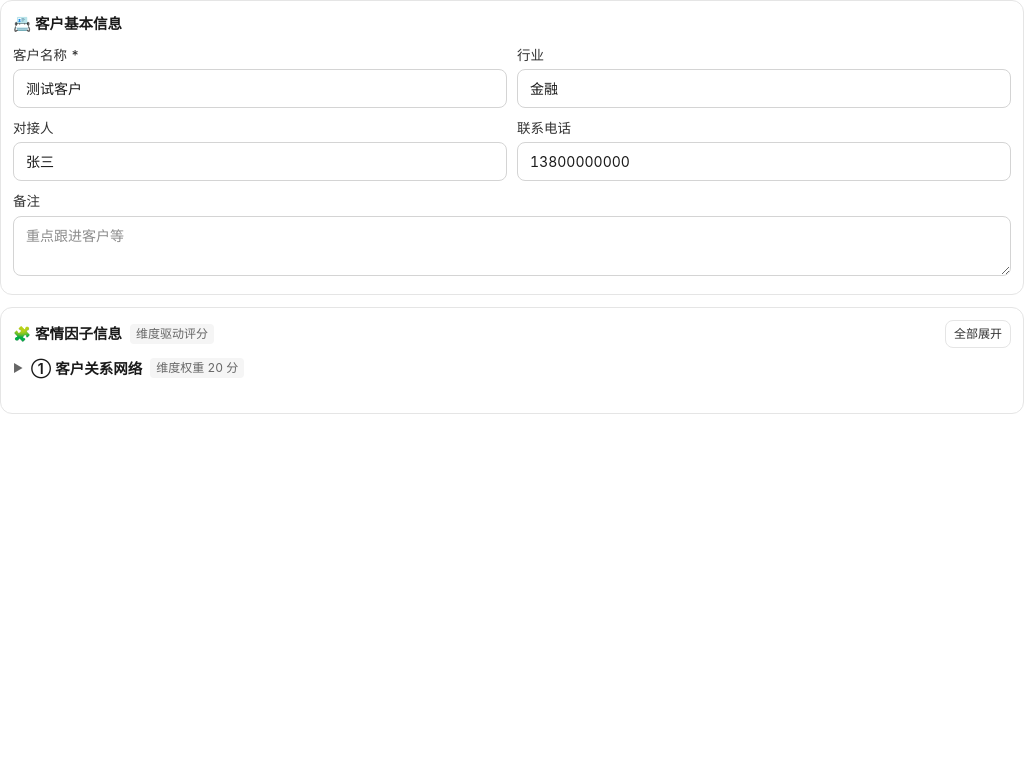
it: CustomerForm 二级维度分组 › 因子均未标注二级维度时不显示多余的「其他」分组头
Click the button "▶ ① 客户关系网络 维度权重 20 分". click: [99, 368]
box: top-left (13, 358), bottom-right (1011, 379)
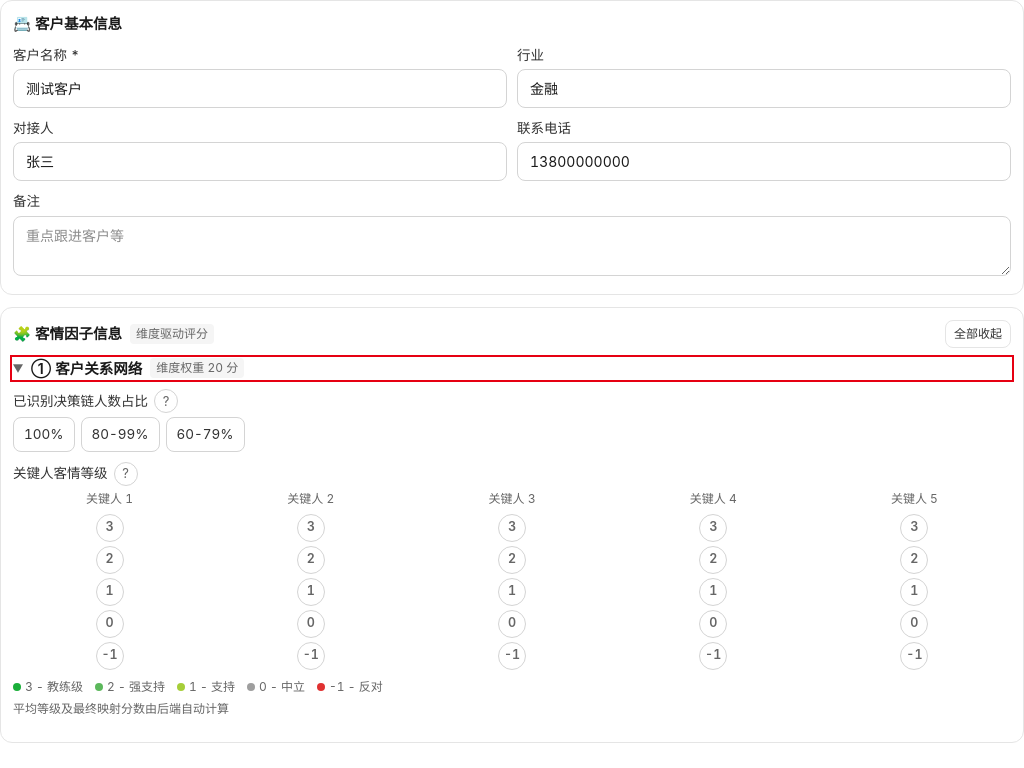
Expected: the text "已识别决策链人数占比" is shown, top-left (13, 391), bottom-right (148, 411)
Expected: the text "关键人客情等级" is shown, top-left (13, 463), bottom-right (108, 484)
